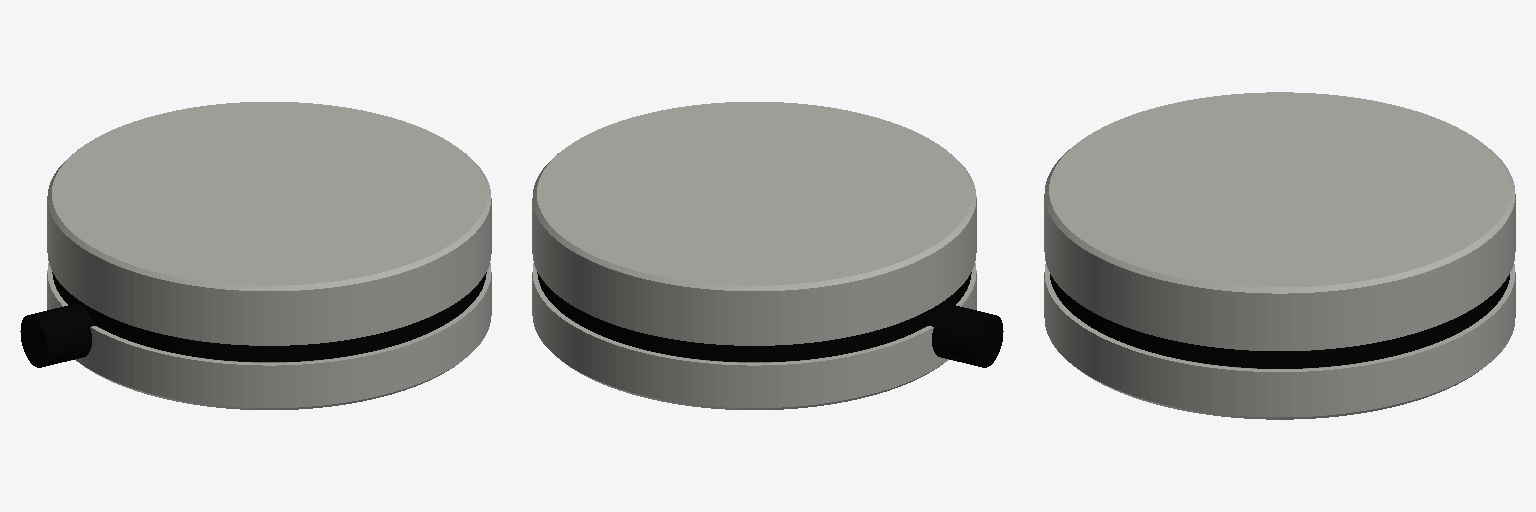
robot.urdf — axia80:
<?xml version="1.0"?>
<!--
  axia80: ATI Axia80 (6 軸力覚センサ) の自作マッシングモデル (CC0-1.0)。

  ============================================================================
  **これは ATI Industrial Automation の CAD ではない。** ATI の CAD は製品ページの
  フォームの先にあり再配布条件を判断できないため、製品フライヤに掲載された公開図面
  (Drawing # 9230-05-1507) の公表値に合わせて botrail-assets が独自に著作した
  簡略形状である。実寸 CAD が要る用途には ATI の CAD ダウンロードを使うこと。
  ============================================================================

  参照実機から採った値 (公表値):
    - 外形 φ82 x 25.4 mm、質量 0.3 kg (製品ページ)、航空機グレードアルミ、IP64
    - 取付側 (ロボット側) とツール側の両面: 6x M5x0.8 タップ 等配、ボルト円 φ71.12。
      ISO 9409-1 のフランジではない (ロボットへはキット付属のインタフェースプレートで取付)
    - センシング基準座標系 (力・トルクの原点) はツール側の面の中心。+Z = ツール側、
      +X = 表示 LED 側 (コネクタの反対)
    - M8 6 ピンコネクタ (EtherCAT 版) は側面、取付面から 6.97 mm、先端は中心から 50.2 mm
  当方設計 (実機の写しではない): 外周の黒帯、面取り、タップ穴・ピン穴の省略。

  座標系 (botrail のエンドエフェクタ規約):
    - mount = root = 取付面 (ロボット側) の中心。+Z がツール方向
    - flange = ツール側の面の中心 (mount の 25.4 mm 上)、+Z 外向き — 連結 2 段目
      (グリッパ等) の取付先
    - ft_frame = センシング基準座標系 = flange と同じ位置・向き (図面の
      "Sensing Reference Frame Origin")

  visual: tools/generate_meshes.py が生成する ../meshes/{body,band}.stl
  collision: URDF プリミティブ (φ82 x 25.4 の円柱 + コネクタ)
-->
<robot name="axia80">

  <material name="axia_aluminium">
    <color rgba="0.70 0.70 0.68 1"/>
  </material>
  <material name="axia_black">
    <color rgba="0.05 0.05 0.05 1"/>
  </material>

  <link name="mount"/>

  <joint name="mount_to_body" type="fixed">
    <parent link="mount"/>
    <child link="body"/>
    <origin xyz="0 0 0" rpy="0 0 0"/>
  </joint>

  <link name="body">
    <visual>
      <geometry>
        <mesh filename="../meshes/body.stl"/>
      </geometry>
      <material name="axia_aluminium"/>
    </visual>
    <visual>
      <geometry>
        <mesh filename="../meshes/band.stl"/>
      </geometry>
      <material name="axia_black"/>
    </visual>
    <collision><!-- 本体 φ82 x 25.4 -->
      <origin xyz="0 0 0.0127"/>
      <geometry><cylinder radius="0.041" length="0.0254"/></geometry>
    </collision>
    <collision><!-- M8 コネクタ φ10、中心から 41..50.2 (-X 側) -->
      <origin xyz="-0.0456 0 0.00697" rpy="0 1.5707963267948966 0"/>
      <geometry><cylinder radius="0.005" length="0.0092"/></geometry>
    </collision>
    <inertial>
      <!-- 0.3 kg (製品ページ)。慣性は φ82 x 25.4 の中実円柱近似 -->
      <mass value="0.300"/>
      <origin xyz="0 0 0.0127"/>
      <inertia ixx="1.42e-4" ixy="0" ixz="0" iyy="1.42e-4" iyz="0" izz="2.52e-4"/>
    </inertial>
  </link>

  <joint name="body_to_flange" type="fixed">
    <parent link="body"/>
    <child link="flange"/>
    <origin xyz="0 0 0.0254" rpy="0 0 0"/>
  </joint>

  <link name="flange"/>

  <joint name="body_to_ft_frame" type="fixed">
    <parent link="body"/>
    <child link="ft_frame"/>
    <origin xyz="0 0 0.0254" rpy="0 0 0"/>
  </joint>

  <link name="ft_frame"/>

</robot>

--- Render facts (derived) ---
The picture shows the robot from 3 angles, left to right: view 1: azimuth 30°, elevation 25°; view 2: azimuth 150°, elevation 25°; view 3: azimuth 270°, elevation 25°; orthographic projection.
Robot: axia80 — 4 links, 3 joints (3 fixed); root link mount; default pose: every joint at zero.
Visible links, largest first — view 1: body; view 2: body; view 3: body.
Link boxes in pixels (box(x1,y1,x2,y2)): body: box(20, 102, 491, 409); body: box(532, 102, 1003, 409); body: box(1044, 92, 1515, 419).
Size in the robot's own frame: 0.0912 by 0.082 by 0.0254 metres.
Meshes: 2 distinct files referenced, 2 mesh visuals loaded (2 binary STL).
